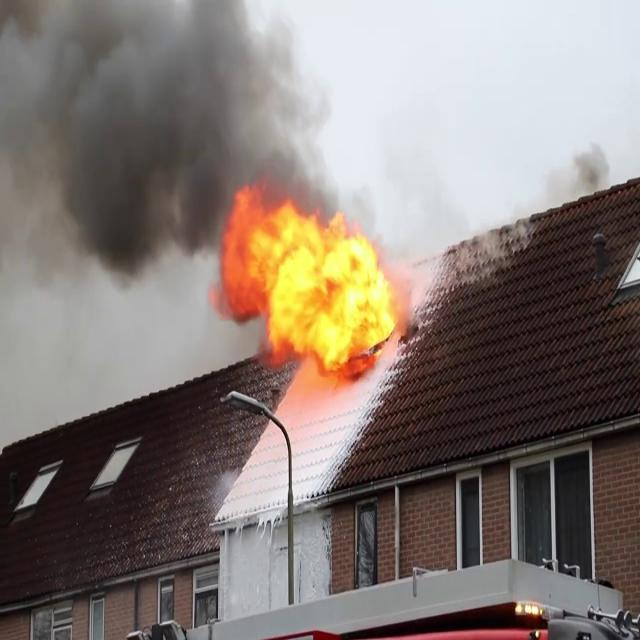Fire: (218, 198, 406, 384)
Smoke: (0, 0, 339, 277), (567, 140, 613, 206)
